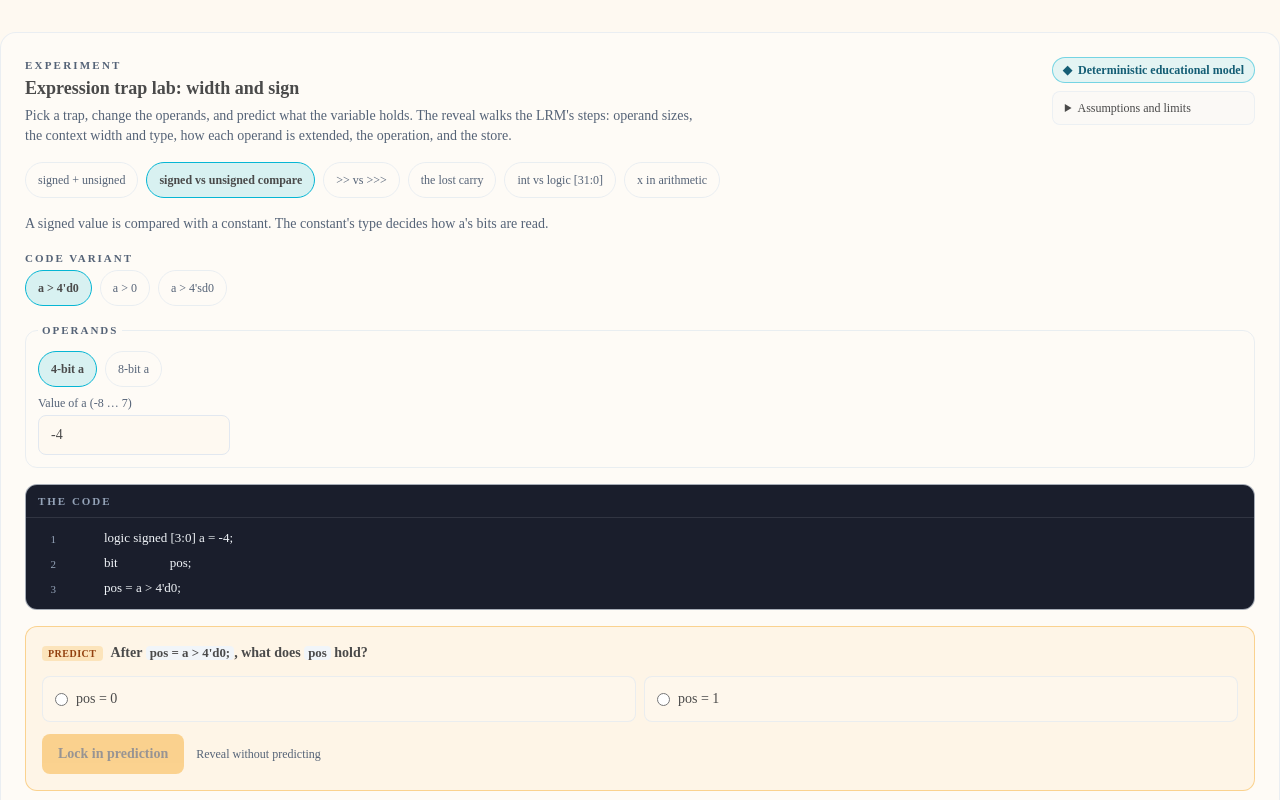
Test: SignednessVisualizer (expression trap lab) › a > 4'd0 is true for a = -4 because the comparison is unsigned
Click the radio button labelled "pos = 0" at (62, 700), box [55,693,68,706]
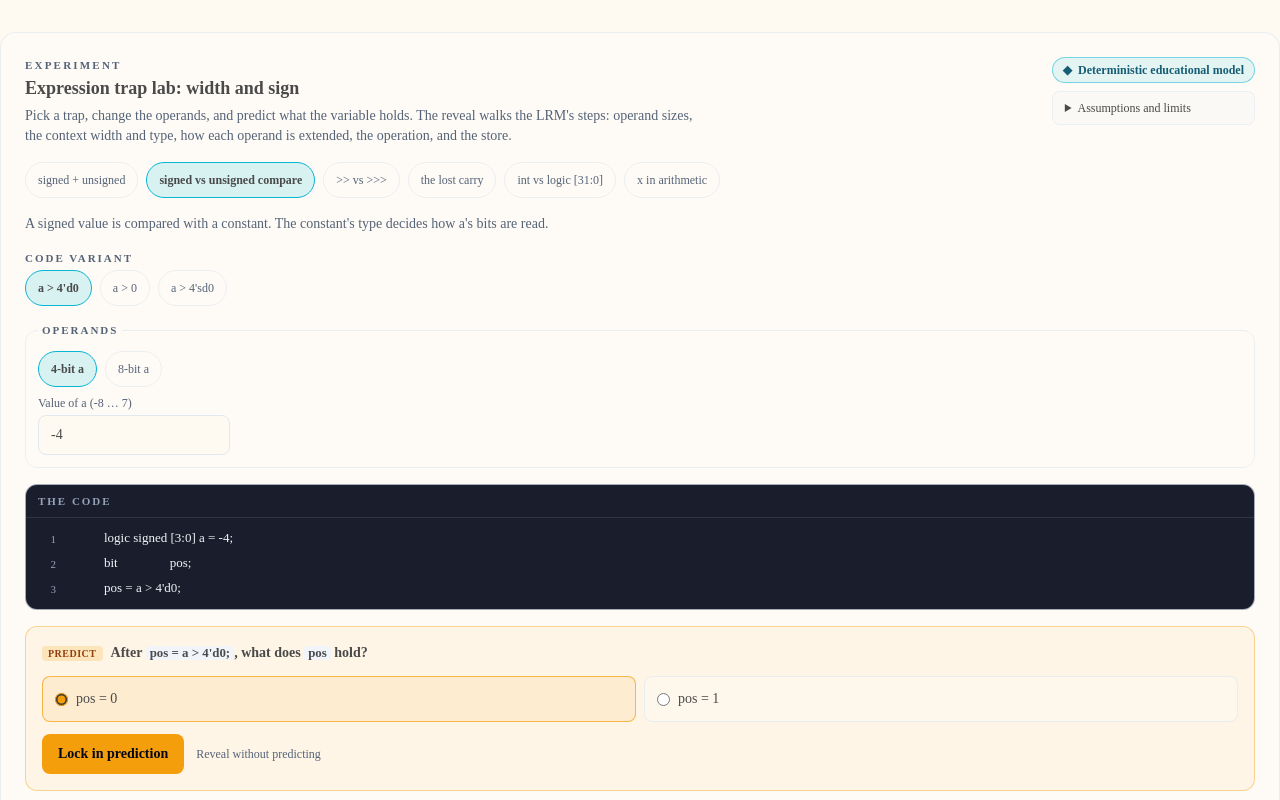
Click the button "Lock in prediction" at (113, 754), box [42,734,184,774]
(page scrolled)
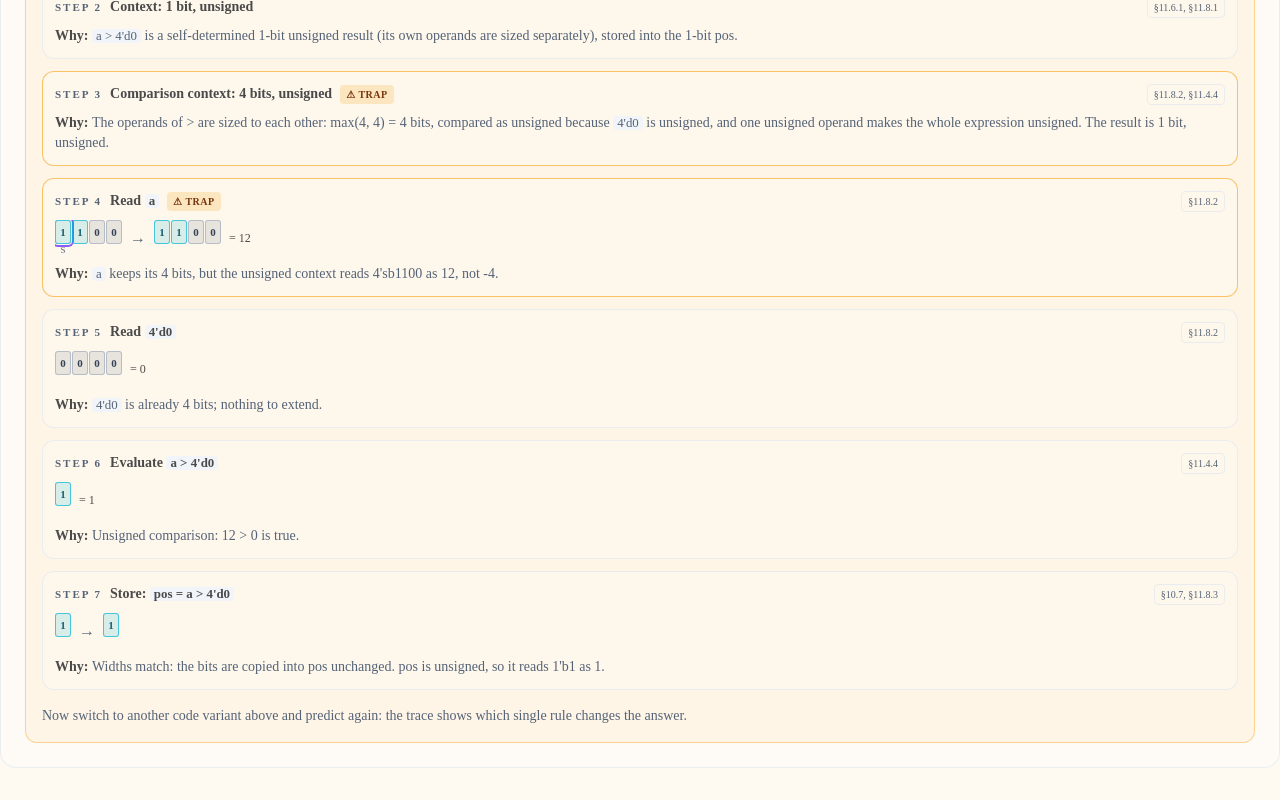
Check: the text "Why: Unsigned comparison: 12 > 0 is true." is shown, box [55,528,299,543]
